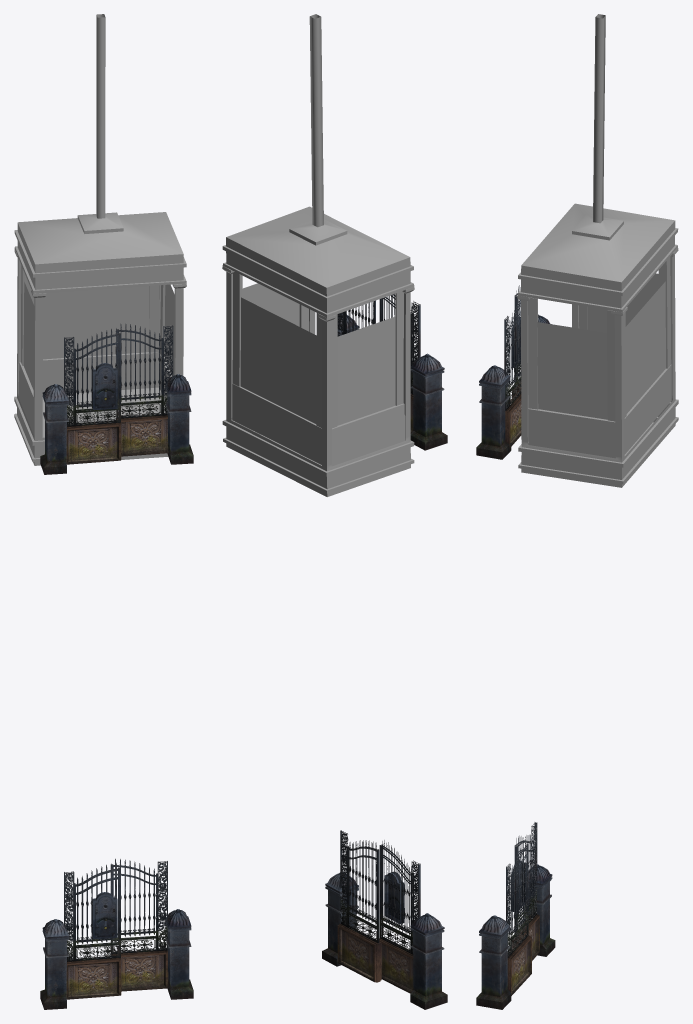
The model's file is Elevator.fbx.
3 views of the same model, side by side, from view 1: azimuth 30°, elevation 25°; view 2: azimuth 150°, elevation 25°; view 3: azimuth 270°, elevation 25° (orthographic). The views are drawn at different scales.
Parts seen in each view (by area): view 1: Elevator3, L_Elevator_Gate1, L_Elevator_Gate, R_Elevator_Gate, R_Elevator_Gate1, L_Elevator_Pillar, L_Elevator_Pillar1, R_Elevator_Pillar1, R_Elevator_Pillar2, ElevatorControls1, ElevatorControls; view 2: Elevator3, R_Elevator_Gate1, L_Elevator_Gate1, L_Elevator_Pillar1, L_Elevator_Pillar, R_Elevator_Pillar2, L_Elevator_Gate, ElevatorControls1, R_Elevator_Gate; view 3: Elevator3, R_Elevator_Gate1, R_Elevator_Pillar2, R_Elevator_Pillar1, L_Elevator_Gate1, R_Elevator_Gate, L_Elevator_Pillar1, L_Elevator_Gate.
Boxes of the visible parts, x1,y1,x2,y2 form: Elevator3: (14,14,186,465); L_Elevator_Gate1: (64,862,121,999); L_Elevator_Gate: (64,328,121,464); R_Elevator_Gate: (116,323,173,456); R_Elevator_Gate1: (110,858,168,991); L_Elevator_Pillar: (40,384,68,474); L_Elevator_Pillar1: (40,919,68,1009); R_Elevator_Pillar1: (165,374,193,464); R_Elevator_Pillar2: (165,909,193,999); ElevatorControls1: (92,892,117,939); ElevatorControls: (92,363,117,410); Elevator3: (222,14,414,496); R_Elevator_Gate1: (337,830,381,982); L_Elevator_Gate1: (379,840,420,993); L_Elevator_Pillar1: (410,913,447,1009); L_Elevator_Pillar: (410,353,447,450); R_Elevator_Pillar2: (322,871,358,966); L_Elevator_Gate: (379,294,420,433); ElevatorControls1: (384,871,404,924); R_Elevator_Gate: (337,300,375,336); Elevator3: (517,14,678,487); R_Elevator_Gate1: (506,842,531,995); R_Elevator_Pillar2: (476,915,511,1009); R_Elevator_Pillar1: (476,365,511,459); L_Elevator_Gate1: (512,822,539,960); R_Elevator_Gate: (504,300,521,448); L_Elevator_Pillar1: (524,864,555,956); L_Elevator_Gate: (512,285,521,397).
Size of the model in its own units: 120 by 637 by 120.
2 materials, 1 textured.
